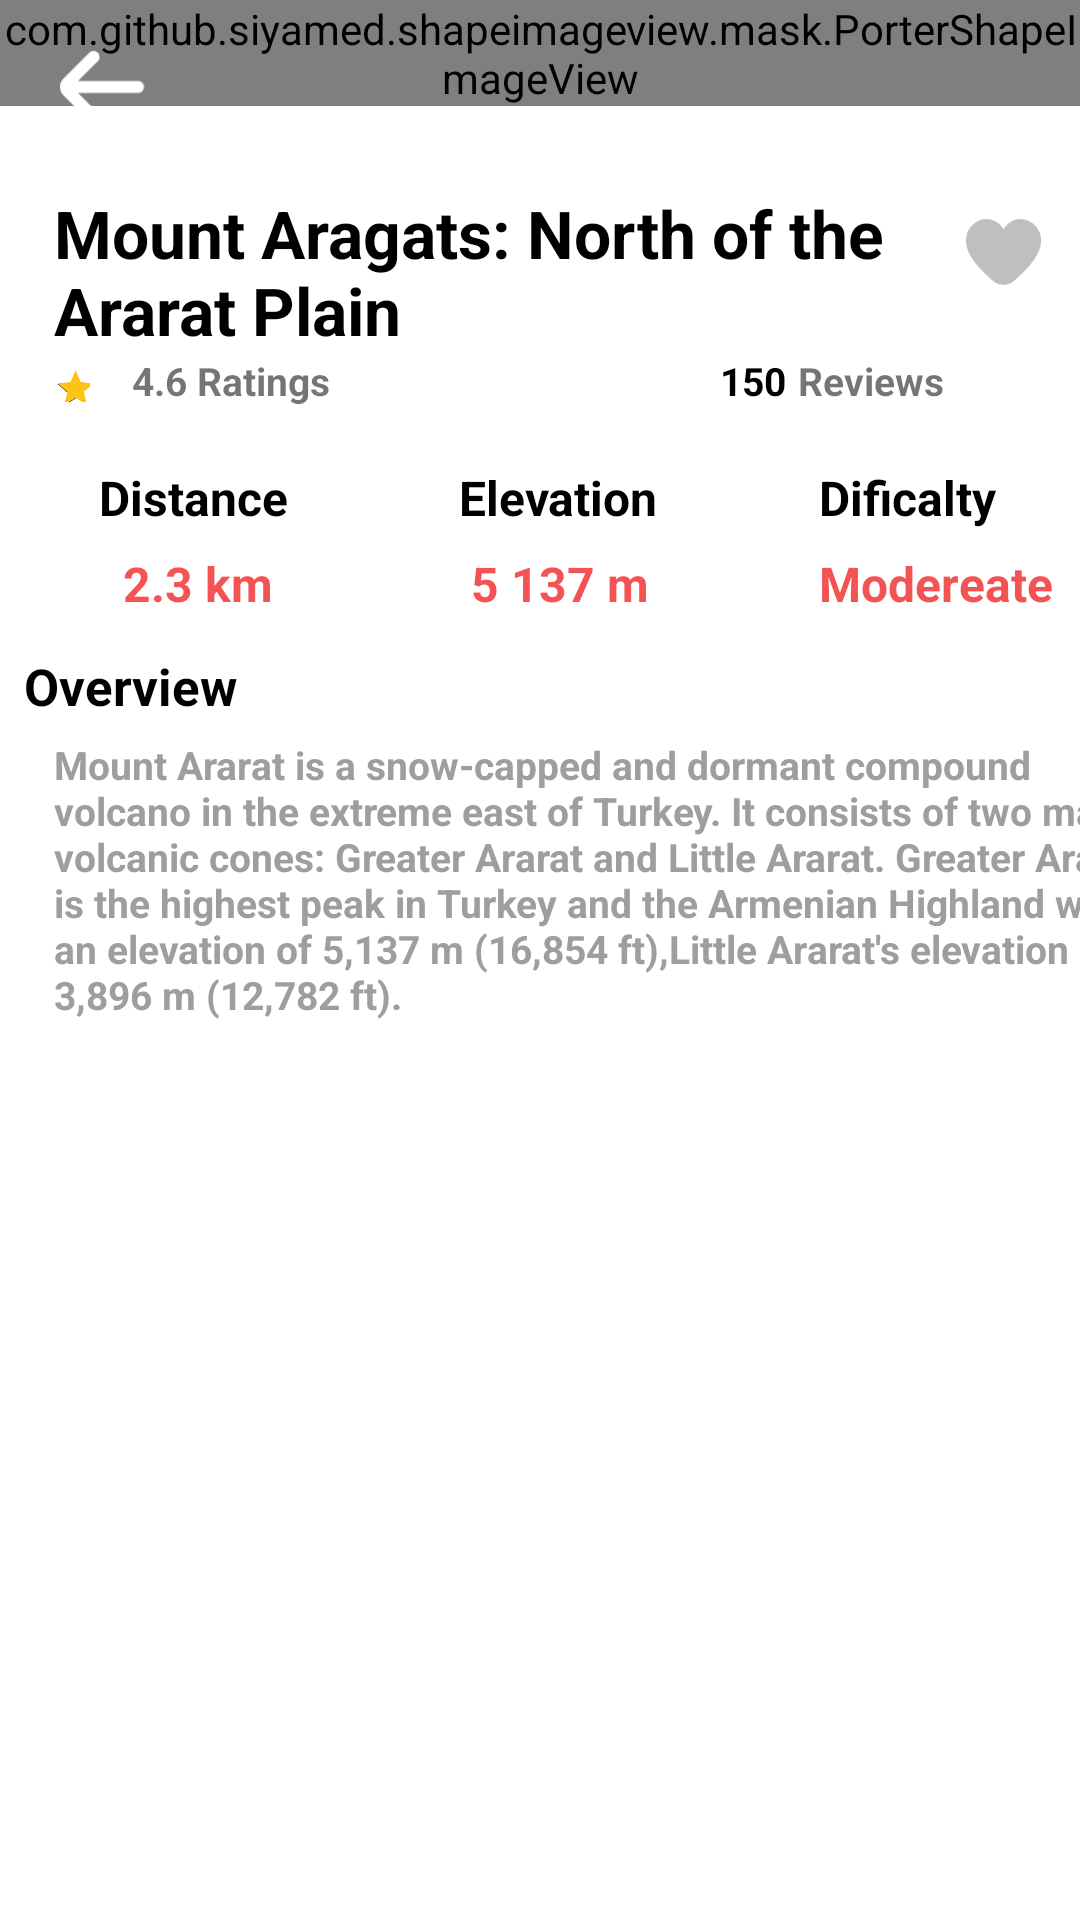

Icon click points for this 1080 × 1920 phone screenshot, format (x=x, y=y):
heart: (x=1003, y=252)
